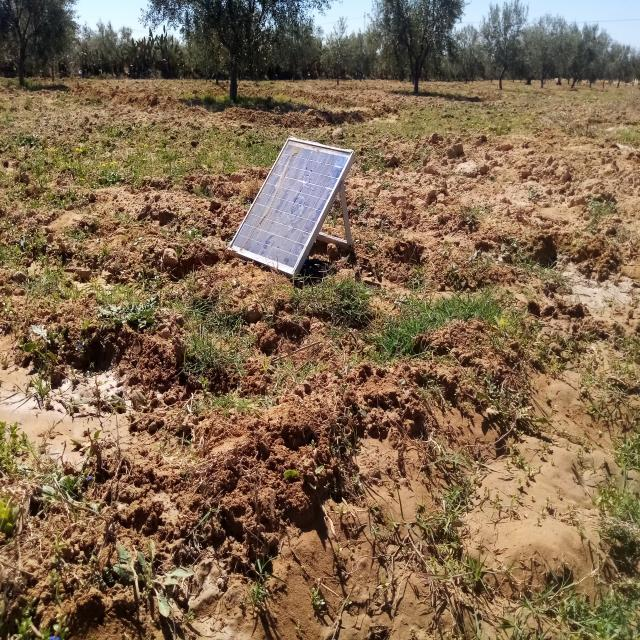faulty: (229, 138, 353, 274)
